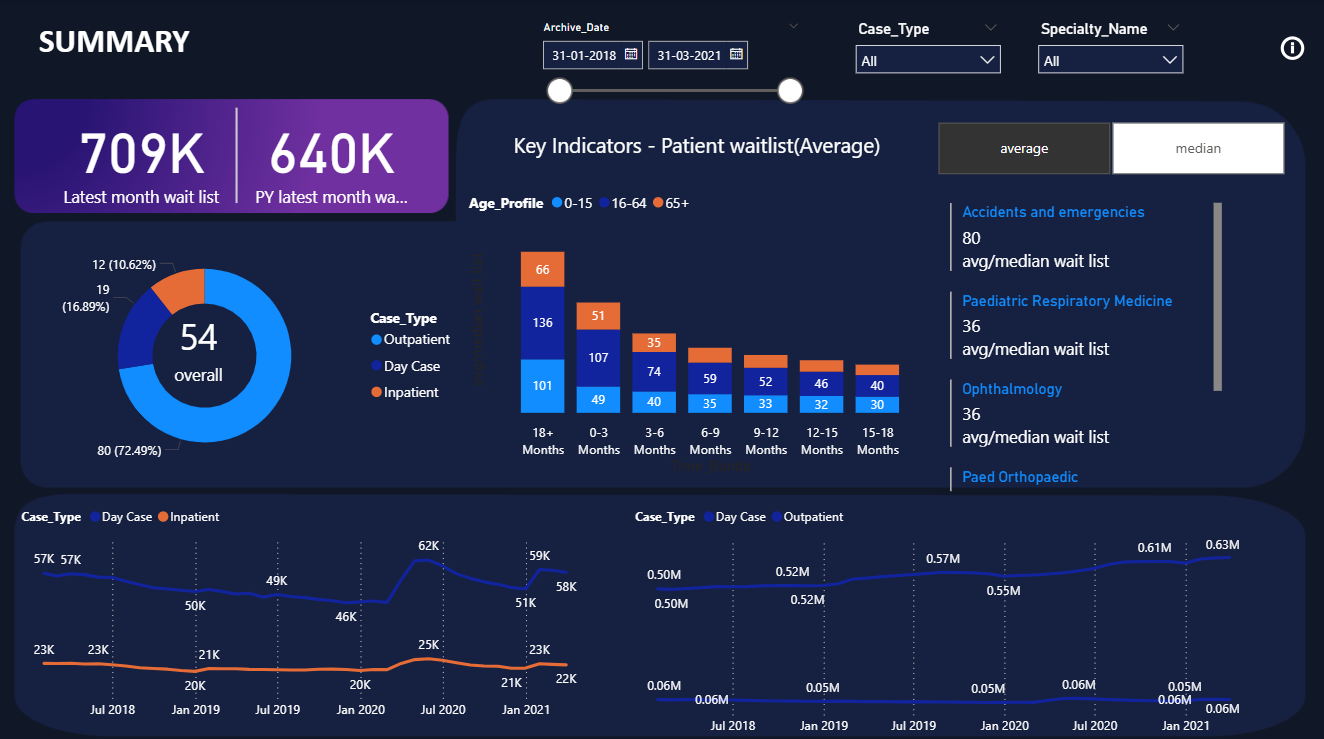

This screenshot's page, from the dashboard's own definition file:
{"tool":"powerbi","page":{"name":"Summary","canvas":[1280,720],"ordinal":0},"visuals":[{"type":"card","fields":{"Values":["All_data.Latest month wait list"]},"box":[32,96,208,112],"z":0},{"type":"card","fields":{"Values":["All_data.PY latest month wait list"]},"box":[240,96,160,112],"z":1000},{"type":"slicer","fields":{"Values":["Table.Calc Method"]},"box":[880,112,384,64],"z":2000},{"type":"donutChart","fields":{"Category":["All_data.Case_Type"],"Y":["All_data.avg/median wit list"]},"box":[32,224,416,240],"z":3000},{"type":"columnChart","fields":{"Y":["All_data.avg/median wait list"],"Series":["All_data.Age_Profile"],"Category":["All_data.Time_Bands"]},"box":[448,176,448,288],"z":4000},{"type":"multiRowCard","fields":{"Values":["All_data.avg/median wait list","All_data.Specialty_Name"]},"box":[912,192,272,288],"z":5000},{"type":"card","fields":{"Values":["All_data.NODataLeft"]},"box":[93.8,515.1,382.3,170.2],"z":6000},{"type":"lineChart","fields":{"Category":["All_data.Archive_Date"],"Series":["All_data.Case_Type"],"Y":["Sum(All_data.Total)"]},"box":[16,480,560,224],"z":7000},{"type":"lineChart","fields":{"Category":["All_data.Archive_Date"],"Series":["All_data.Case_Type"],"Y":["Sum(All_data.Total)"]},"box":[608,480,608,240],"z":8000},{"type":"slicer","fields":{"Values":["All_data.Archive_Date"]},"box":[512,16,272,96],"z":9000},{"type":"slicer","fields":{"Values":["All_data.Case_Type"]},"box":[816,16,160,80],"z":10000},{"type":"slicer","fields":{"Values":["All_data.Specialty_Name"]},"box":[992,16,160,80],"z":11000},{"type":"textbox","box":[32,16,224,64],"z":12000},{"type":"card","fields":{"Values":["All_data.avg/median wait list"]},"box":[128,288,128,96],"z":13000},{"type":"shape","box":[105.3,105.3,246.7,92.3],"z":14000},{"type":"card","fields":{"Values":["All_data.Dynamic Title"]},"box":[476.1,109.6,392.4,66.4],"z":15000},{"type":"actionButton","box":[1231.8,30.2,31.4,35],"z":16000}]}

Visuals, with their boxes in screenshot pixels (x1, y1, x2, y2), scaled from the page's 1280x720 canvas onto the 1324x739 screenshot:
card - All_data.Latest month wait list: {"left": 33, "top": 99, "right": 248, "bottom": 213}
card - All_data.PY latest month wait list: {"left": 248, "top": 99, "right": 414, "bottom": 213}
slicer - Table.Calc Method: {"left": 910, "top": 115, "right": 1307, "bottom": 181}
donutChart - All_data.Case_Type x All_data.avg/median wit list: {"left": 33, "top": 230, "right": 463, "bottom": 476}
columnChart - All_data.avg/median wait list x All_data.Age_Profile: {"left": 463, "top": 181, "right": 927, "bottom": 476}
multiRowCard - All_data.avg/median wait list x All_data.Specialty_Name: {"left": 943, "top": 197, "right": 1225, "bottom": 493}
card - All_data.NODataLeft: {"left": 97, "top": 529, "right": 492, "bottom": 703}
lineChart - All_data.Archive_Date x All_data.Case_Type: {"left": 17, "top": 493, "right": 596, "bottom": 723}
lineChart - All_data.Archive_Date x All_data.Case_Type: {"left": 629, "top": 493, "right": 1258, "bottom": 738}
slicer - All_data.Archive_Date: {"left": 530, "top": 16, "right": 811, "bottom": 115}
slicer - All_data.Case_Type: {"left": 844, "top": 16, "right": 1010, "bottom": 99}
slicer - All_data.Specialty_Name: {"left": 1026, "top": 16, "right": 1192, "bottom": 99}
textbox: {"left": 33, "top": 16, "right": 265, "bottom": 82}
card - All_data.avg/median wait list: {"left": 132, "top": 296, "right": 265, "bottom": 394}
shape: {"left": 109, "top": 108, "right": 364, "bottom": 203}
card - All_data.Dynamic Title: {"left": 492, "top": 112, "right": 898, "bottom": 181}
actionButton: {"left": 1274, "top": 31, "right": 1307, "bottom": 67}
